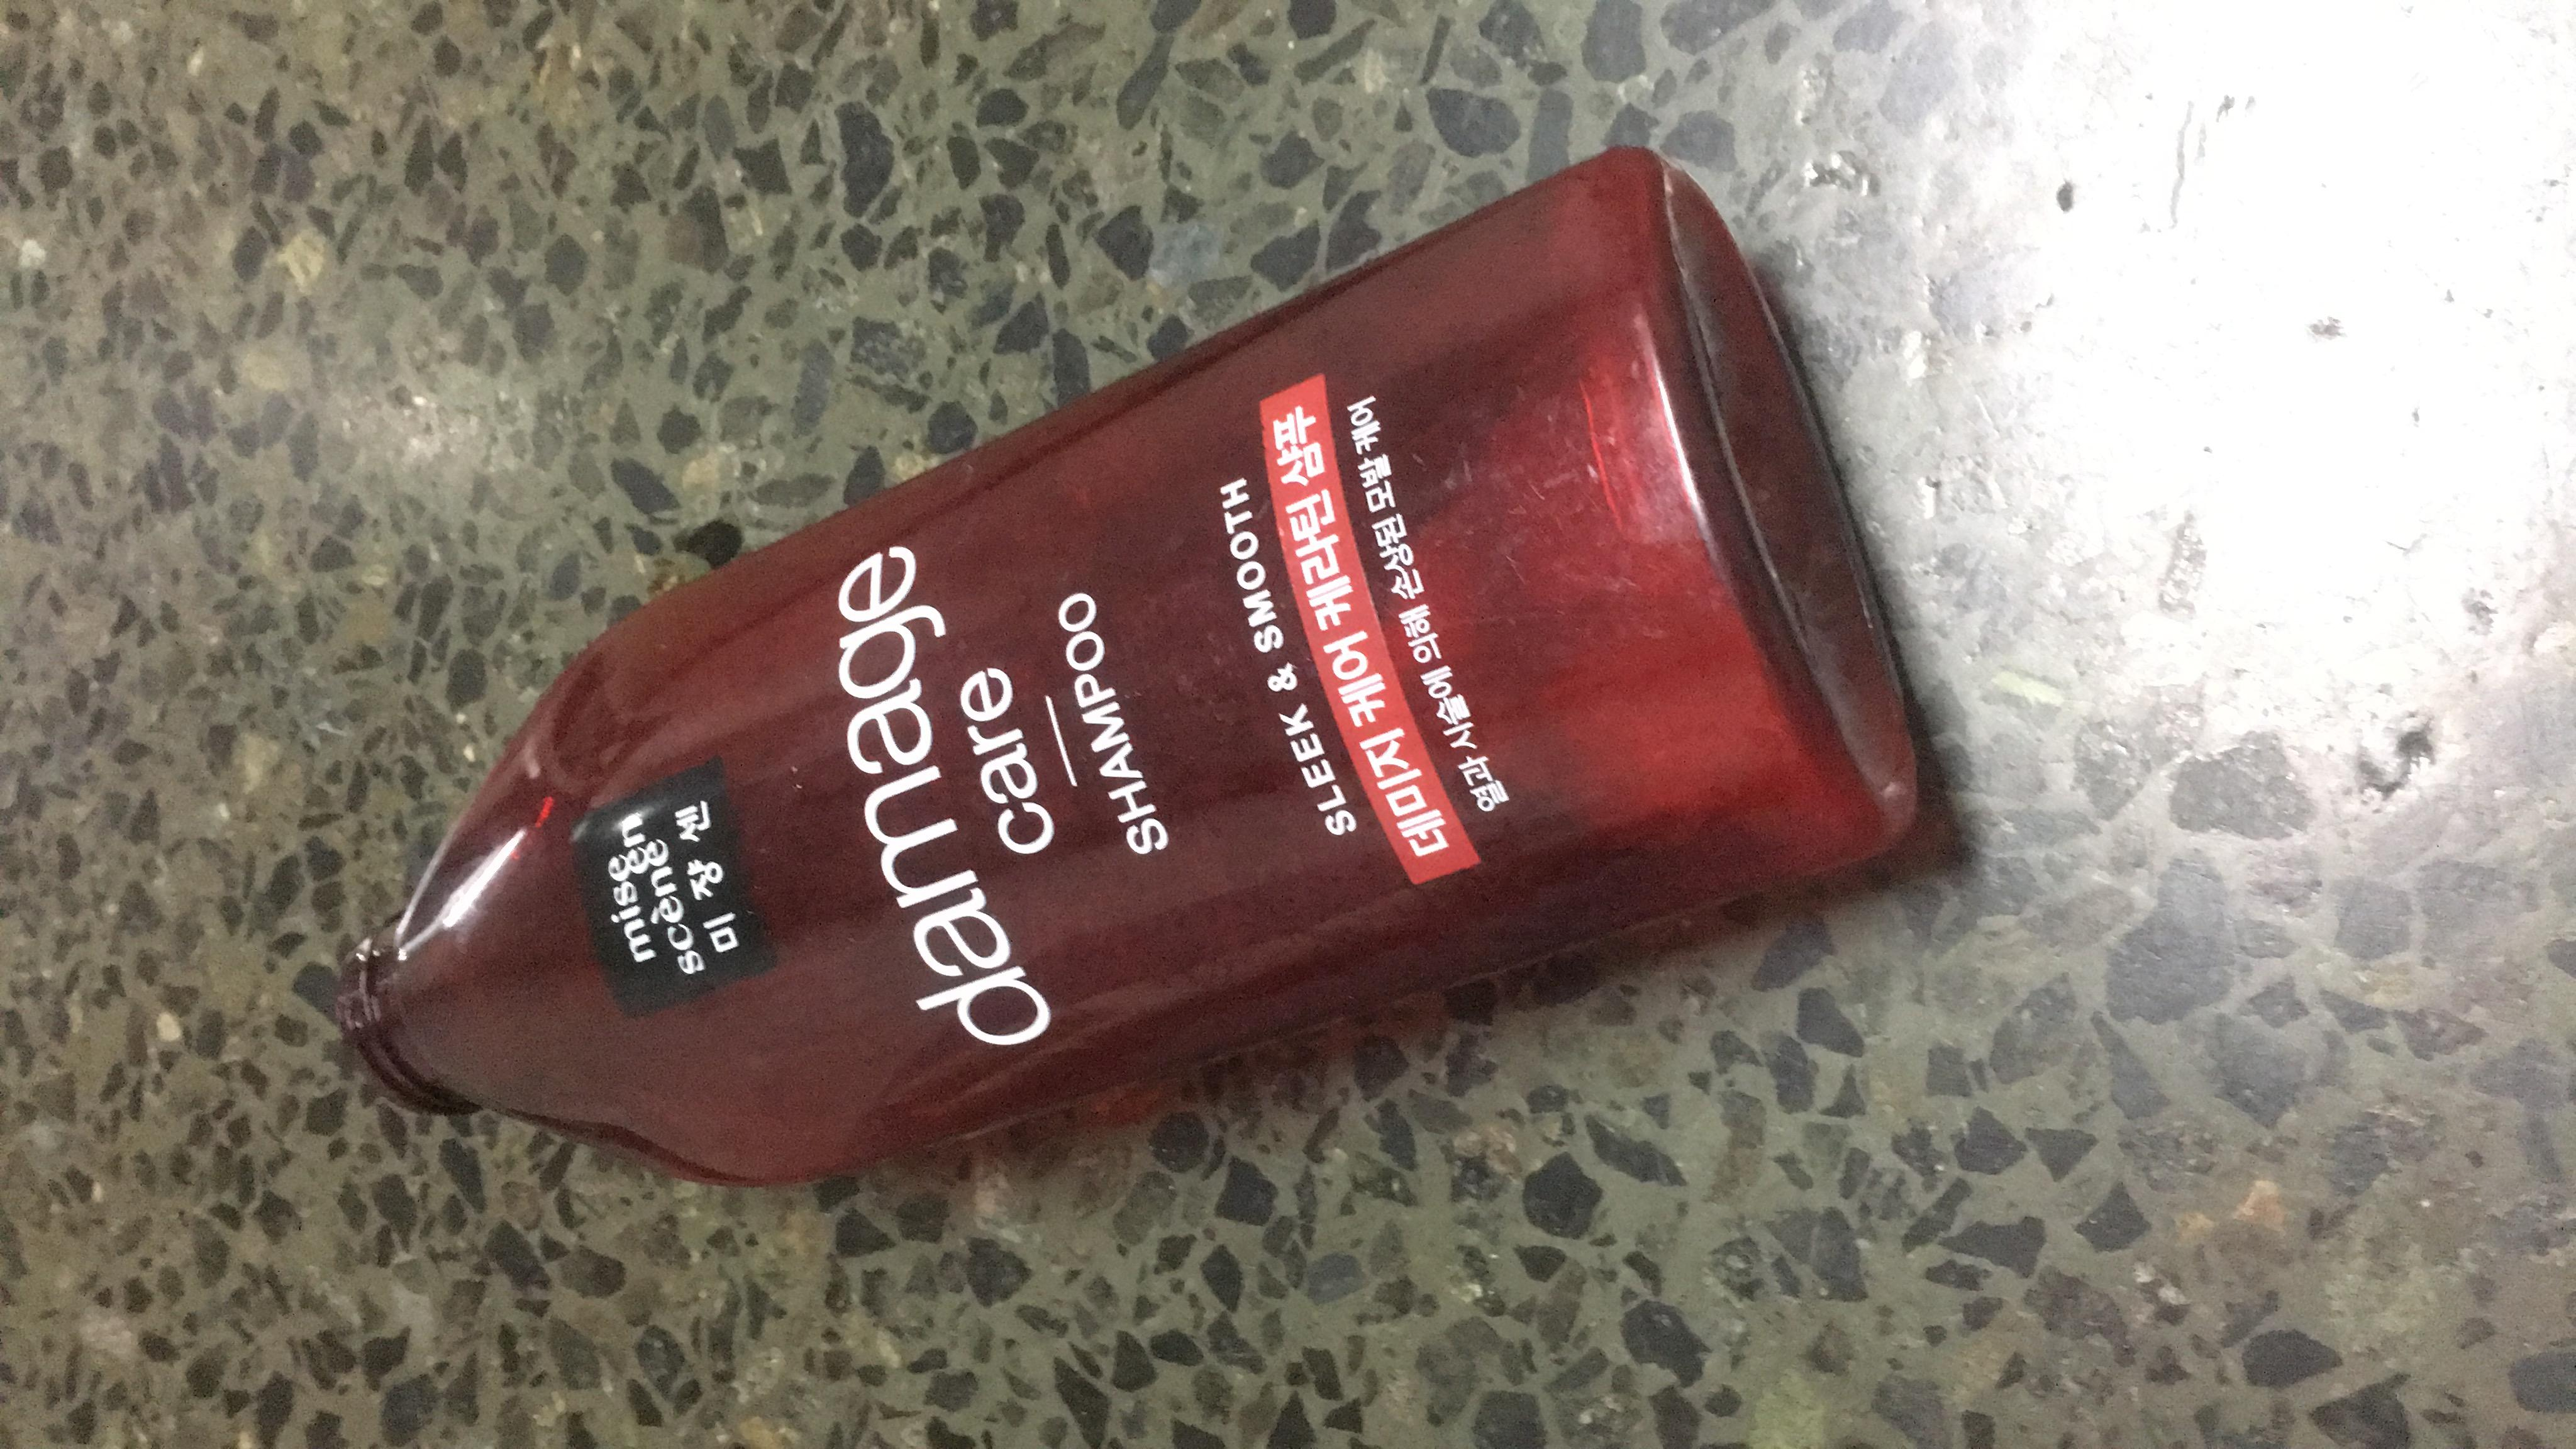bottle: (2, 175, 2323, 1095)
